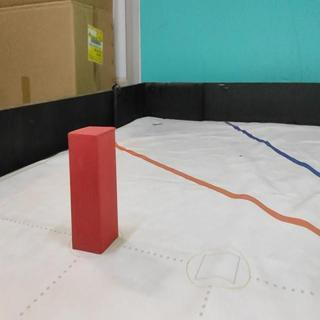redbox: (66, 125, 119, 256)
